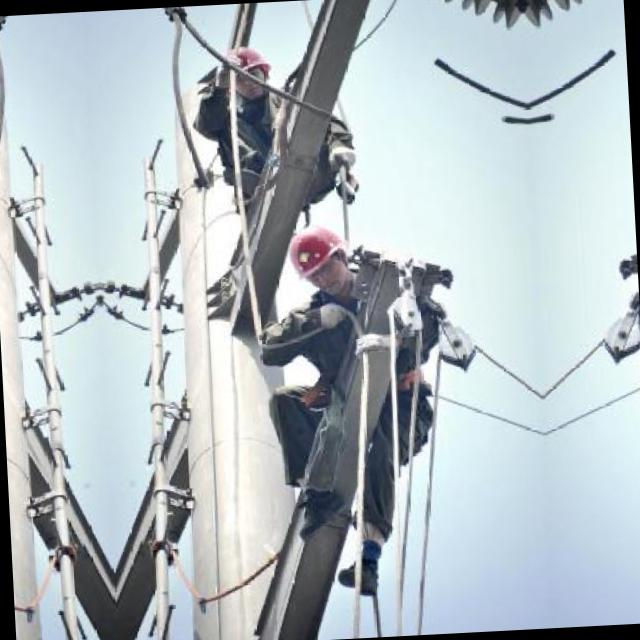helmet: (280, 214, 358, 298), (216, 38, 272, 101)
